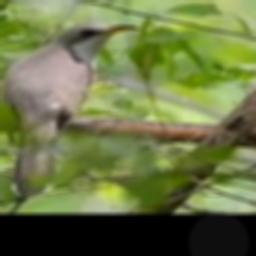Cuckoo: (1, 22, 139, 194)
